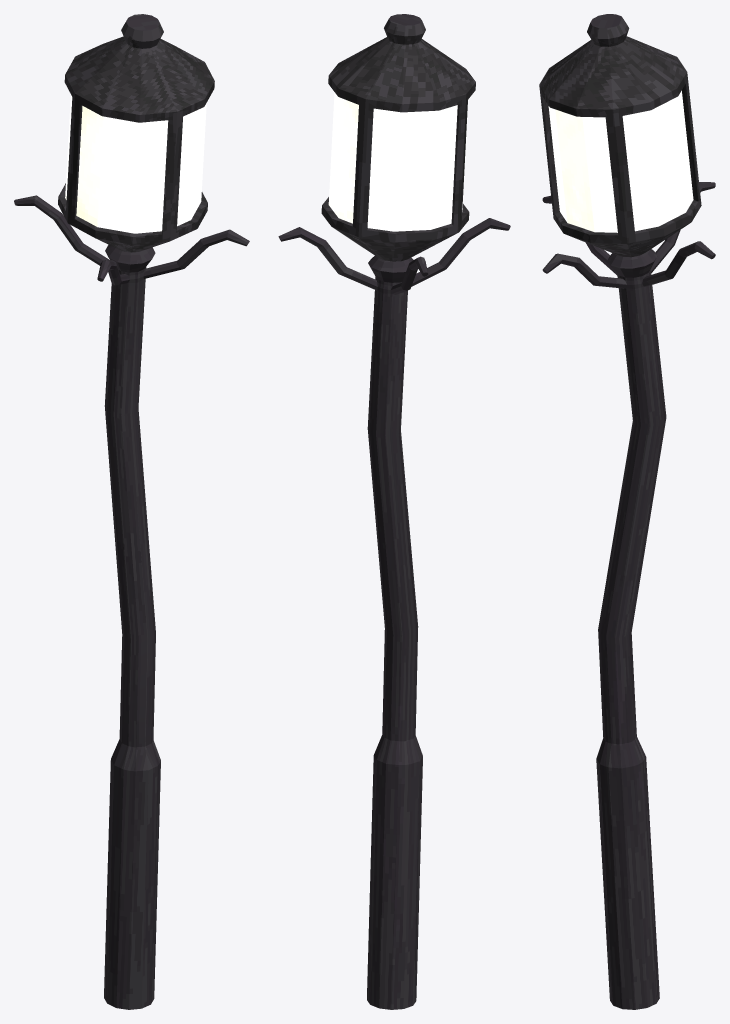
The model's file is SM_FarolaDoblada.fbx.
3 views of the same model, side by side, from view 1: azimuth 30°, elevation 25°; view 2: azimuth 150°, elevation 25°; view 3: azimuth 270°, elevation 25° (orthographic).
Visible parts, largest first — view 1: La Farola; view 2: La Farola; view 3: La Farola.
Boxes of the visible parts, box(x1,y1,x2,y2) form: La Farola: box(14, 14, 249, 1009); La Farola: box(278, 14, 510, 1009); La Farola: box(539, 14, 715, 1009).
Size of the model in its own units: 96.19 by 599 by 97.7.
Materials: 1 (1 with a texture image).
